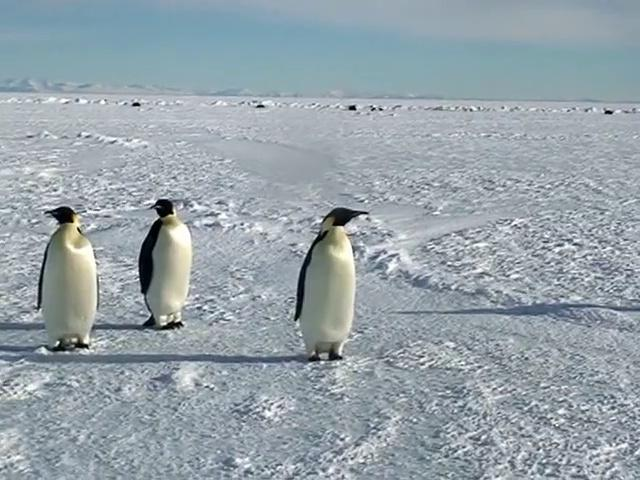animal: (295, 208, 367, 360)
